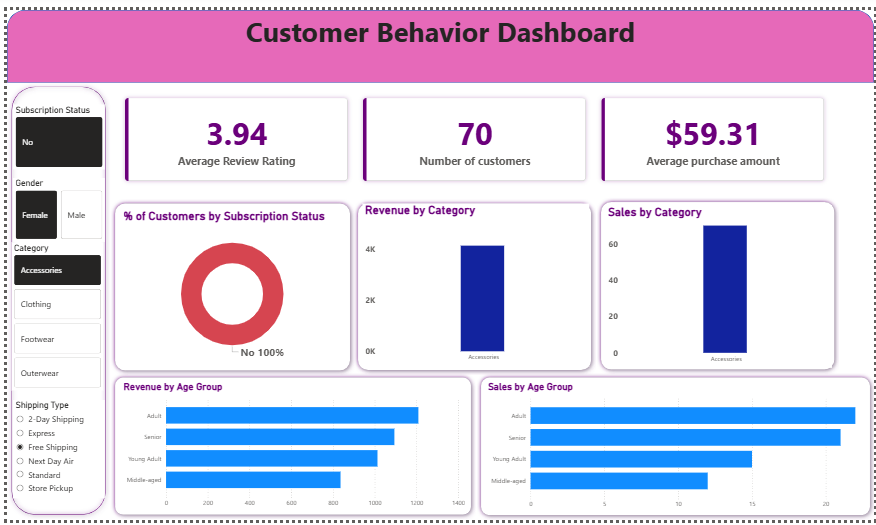

The page's visual inventory and layout, read from the dashboard file:
{"tool":"powerbi","page":{"name":"Page 1","canvas":[1700,1000],"ordinal":0},"visuals":[{"type":"cardVisual","fields":{"Data":["public customer.Average Review Rating","public customer.Number of customers","public customer.Average purchase amount"]},"box":[202.8,144.4,1427.8,219.4],"z":0},{"type":"shape","box":[0,0,1700,142.4],"z":1000},{"type":"textbox","box":[0,0,1700,114.6],"z":2000},{"type":"shape","box":[202.4,371.4,478.6,345.2],"z":3000},{"type":"donutChart","title":"% of Customers by Subscription Status","fields":{"Category":["public customer.subscription_status"],"Y":["CountNonNull(public customer.customer_id)"]},"box":[223.8,390.5,435.7,304.8],"z":4000},{"type":"shape","box":[680.6,369.4,475,344.4],"z":5000},{"type":"shape","box":[1156.1,368.3,475.6,346.3],"z":6000},{"type":"clusteredColumnChart","title":"Revenue by Category","fields":{"Y":["Sum(public customer.purchase_amount)"],"Category":["public customer.category"]},"box":[697.2,380.6,444.4,319.4],"z":7000},{"type":"clusteredColumnChart","title":"Sales by Category","fields":{"Y":["CountNonNull(public customer.purchase_amount)"],"Category":["public customer.category"]},"box":[1173.2,382.9,443.9,319.5],"z":8000},{"type":"shape","box":[0,142.5,202.5,857.5],"z":9000},{"type":"advancedSlicerVisual","fields":{"Values":["public customer.subscription_status"]},"box":[12.5,185,180,127.5],"z":10000},{"type":"advancedSlicerVisual","fields":{"Values":["public customer.gender"]},"box":[12.5,330,180,125],"z":11000},{"type":"advancedSlicerVisual","title":"Category","fields":{"Values":["public customer.category"]},"box":[10,455,180,290],"z":12000},{"type":"listSlicer","title":"Shipping Type","fields":{"Values":["public customer.shipping_type"]},"box":[12.5,765,180,192.5],"z":13000},{"type":"shape","box":[202.6,710.5,715.8,286.8],"z":15000},{"type":"shape","box":[919.5,712.2,780.5,287.8],"z":16000},{"type":"clusteredBarChart","title":"Sales by Age Group","fields":{"Y":["CountNonNull(public customer.customer_id)"],"Category":["public customer.age_group"]},"box":[936.8,726.3,736.8,260.5],"z":16001},{"type":"clusteredBarChart","title":"Revenue by Age Group","fields":{"Y":["Sum(public customer.purchase_amount)"],"Category":["public customer.age_group"]},"box":[223.7,726.3,678.9,257.9],"z":16002}]}

Visuals, with their boxes in screenshot pixels (x1, y1, x2, y2), scaled from the page's 1700x1000 canvas onto the 876x525 screenshot:
cardVisual - public customer.Average Review Rating x public customer.Number of customers: bbox=[105, 76, 840, 191]
shape: bbox=[0, 0, 875, 75]
textbox: bbox=[0, 0, 875, 60]
shape: bbox=[104, 195, 351, 376]
"% of Customers by Subscription Status" donutChart: bbox=[115, 205, 340, 365]
shape: bbox=[351, 194, 595, 375]
shape: bbox=[596, 193, 841, 375]
"Revenue by Category" clusteredColumnChart: bbox=[359, 200, 588, 368]
"Sales by Category" clusteredColumnChart: bbox=[605, 201, 833, 369]
shape: bbox=[0, 75, 104, 524]
advancedSlicerVisual - public customer.subscription_status: bbox=[6, 97, 99, 164]
advancedSlicerVisual - public customer.gender: bbox=[6, 173, 99, 239]
"Category" advancedSlicerVisual: bbox=[5, 239, 98, 391]
"Shipping Type" listSlicer: bbox=[6, 402, 99, 503]
shape: bbox=[104, 373, 473, 524]
shape: bbox=[474, 374, 875, 524]
"Sales by Age Group" clusteredBarChart: bbox=[483, 381, 862, 518]
"Revenue by Age Group" clusteredBarChart: bbox=[115, 381, 465, 517]
